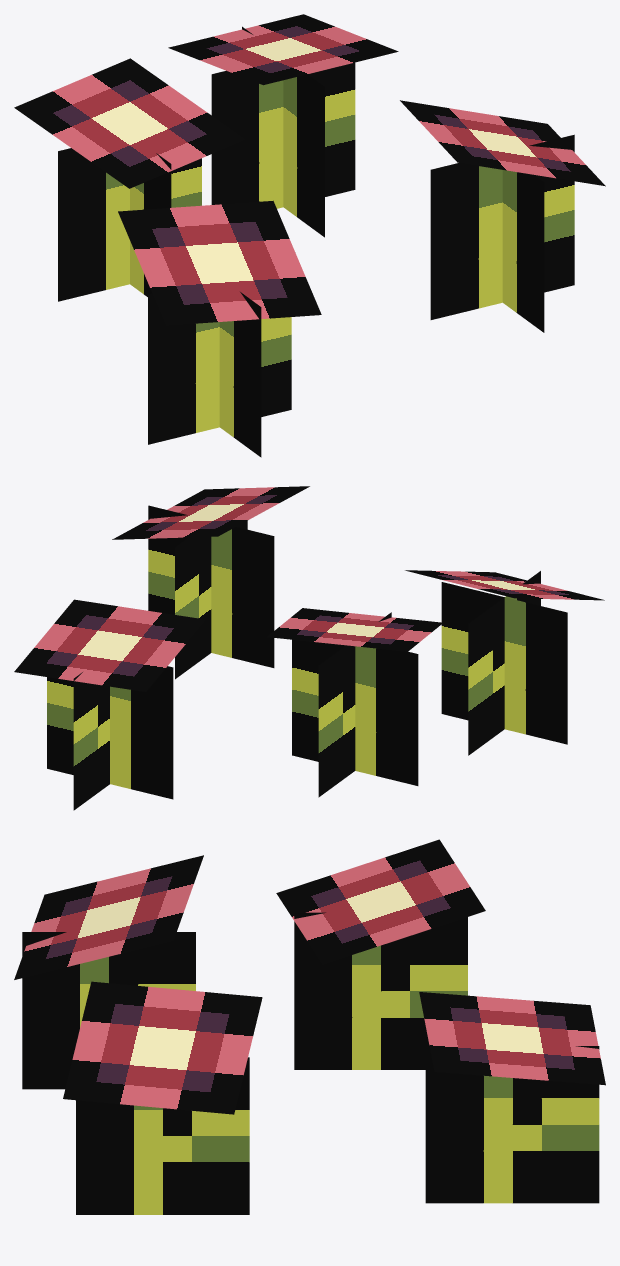
Rendered from flowers_red.glb.
3 renders of one model, top to bottom at view 1: azimuth 30°, elevation 25°; view 2: azimuth 150°, elevation 25°; view 3: azimuth 270°, elevation 25°, orthographic. The views are drawn at different scales.
Parts seen in each view (by area): view 1: flowers; view 2: flowers; view 3: flowers.
Part boxes in pixels (x1,y1,x2,y2): flowers: (14, 14, 605, 457); flowers: (14, 486, 604, 810); flowers: (14, 839, 605, 1214).
Bounding box in the file's own units: 1.23 × 0.5372 × 1.28.
1 material, 1 textured.
